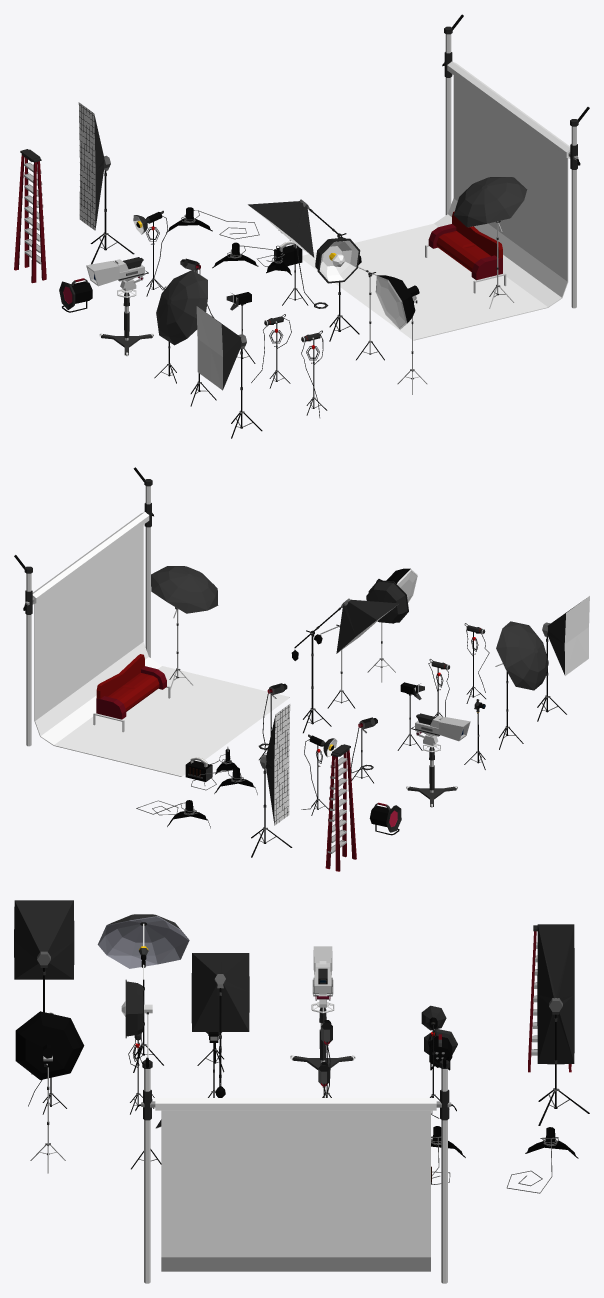
3 views of the same model, one above another, from view 1: azimuth 30°, elevation 25°; view 2: azimuth 150°, elevation 25°; view 3: azimuth 270°, elevation 25° (orthographic). The views are drawn at different scales.
Visible parts, largest first — view 1: WhiteCurtain.Sofa_18, SoftBox.01_15, Um.Flash.01_16, Um.Flash.02_1, SoftBox.02_2, Ladder_17, SoftBox.03_3, Camera.02_0, Flash.03_5, Flash.04_12, GroundStuff02_11, Red Light_14 (+3 smaller); view 2: WhiteCurtain.Sofa_18, Um.Flash.02_1, SoftBox.01_15, Um.Flash.01_16, SoftBox.02_2, Ladder_17, SoftBox.03_3, Camera.02_0, Flash.03_5, GroundStuff02_11, Red Light_14, Flash.04_12 (+1 smaller); view 3: WhiteCurtain.Sofa_18, SoftBox.01_15, SoftBox.02_2, SoftBox.03_3, Um.Flash.02_1, Flash.04_12, Camera.02_0, Flash.03_5, Red Light_14, Ladder_17, Flash.01_13, GroundStuff01_10.
Part boxes in pixels (left/top/right/bottom): WhiteCurtain.Sofa_18: left=302, top=14, right=589, bottom=340; SoftBox.01_15: left=78, top=102, right=134, bottom=264; Um.Flash.01_16: left=454, top=177, right=527, bottom=308; Um.Flash.02_1: left=156, top=270, right=216, bottom=406; SoftBox.02_2: left=196, top=306, right=262, bottom=438; Ladder_17: left=14, top=149, right=46, bottom=283; SoftBox.03_3: left=248, top=199, right=361, bottom=341; Camera.02_0: left=86, top=257, right=153, bottom=356; Flash.03_5: left=315, top=237, right=384, bottom=360; Flash.04_12: left=375, top=275, right=427, bottom=394; GroundStuff02_11: left=212, top=241, right=302, bottom=275; Red Light_14: left=59, top=278, right=92, bottom=312; WhiteCurtain.Sofa_18: left=14, top=467, right=289, bottom=776; Um.Flash.02_1: left=495, top=621, right=548, bottom=749; SoftBox.01_15: left=251, top=704, right=292, bottom=857; Um.Flash.01_16: left=151, top=566, right=218, bottom=689; SoftBox.02_2: left=537, top=596, right=589, bottom=721; Ladder_17: left=325, top=744, right=356, bottom=871; SoftBox.03_3: left=291, top=598, right=399, bottom=733; Camera.02_0: left=406, top=713, right=470, bottom=807; Flash.03_5: left=314, top=580, right=408, bottom=708; GroundStuff02_11: left=185, top=746, right=257, bottom=794; Red Light_14: left=369, top=802, right=401, bottom=835; Flash.04_12: left=367, top=568, right=417, bottom=682; WhiteCurtain.Sofa_18: left=135, top=1057, right=456, bottom=1283; SoftBox.01_15: left=537, top=924, right=589, bottom=1125; SoftBox.02_2: left=14, top=900, right=74, bottom=1074; SoftBox.03_3: left=191, top=953, right=249, bottom=1097; Um.Flash.02_1: left=97, top=914, right=189, bottom=1072; Flash.04_12: left=15, top=1011, right=84, bottom=1173; Camera.02_0: left=290, top=946, right=355, bottom=1069; Flash.03_5: left=121, top=979, right=161, bottom=1169; Red Light_14: left=424, top=1029, right=457, bottom=1070; Ladder_17: left=528, top=925, right=571, bottom=1072; Flash.01_13: left=421, top=1005, right=446, bottom=1118; GroundStuff01_10: left=506, top=1127, right=578, bottom=1193.
Size of the model in its own units: 8.62 by 3.82 by 8.51.
1 material, 1 textured.
